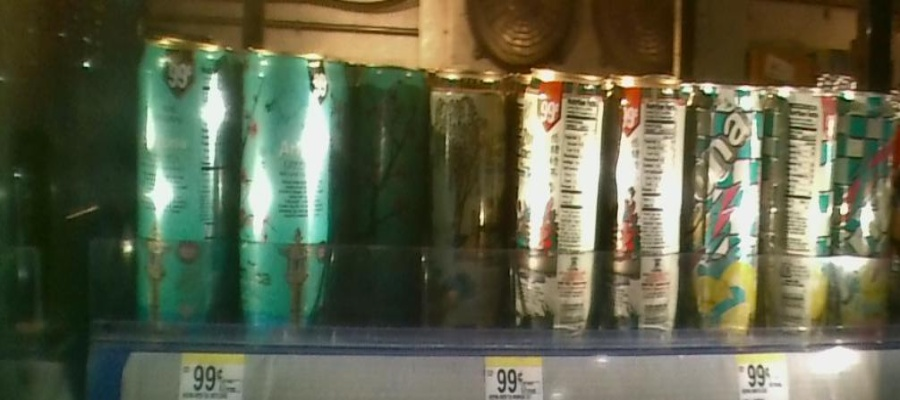bottle: (132, 23, 232, 343), (235, 36, 335, 342), (515, 52, 607, 347), (608, 43, 687, 345), (348, 38, 427, 327), (429, 47, 509, 332), (768, 61, 841, 354), (692, 58, 766, 347), (844, 53, 900, 362)
